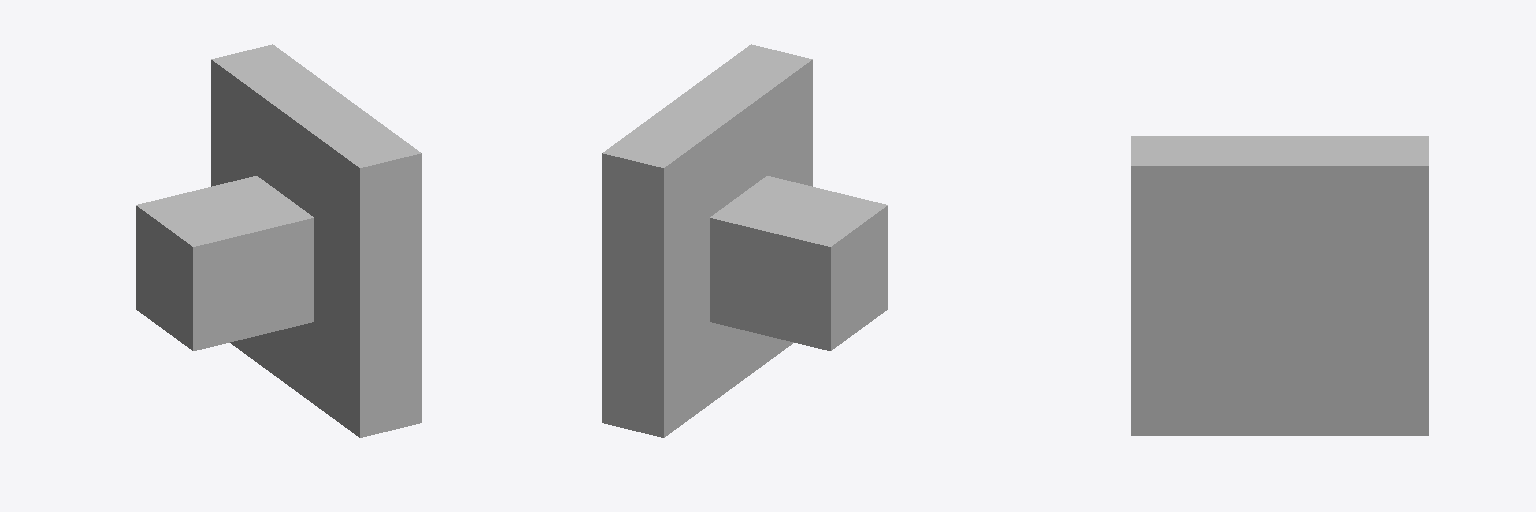
The model's file is one.obj.
3 views of the same model, side by side, from view 1: azimuth 30°, elevation 25°; view 2: azimuth 150°, elevation 25°; view 3: azimuth 270°, elevation 25° (orthographic).
Visible parts, largest first — view 1: Cube; view 2: Cube; view 3: Cube.
Part boxes in pixels (left/top/right/bottom): Cube: left=136, top=44, right=421, bottom=437; Cube: left=602, top=44, right=887, bottom=437; Cube: left=1131, top=136, right=1428, bottom=435.
Size of the model in its own units: 1.42 by 2 by 2.